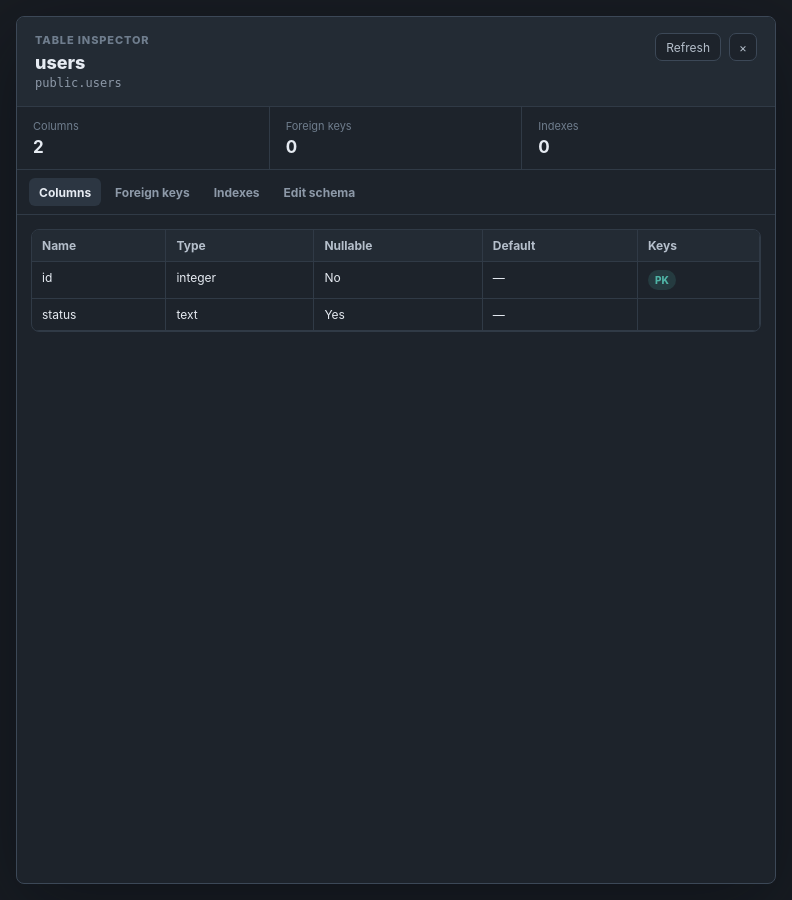
Test: TableInspectorDrawer › previews default value and delete column schema edits
Click the button "Edit schema" at (319, 192), box [274,178,365,206]
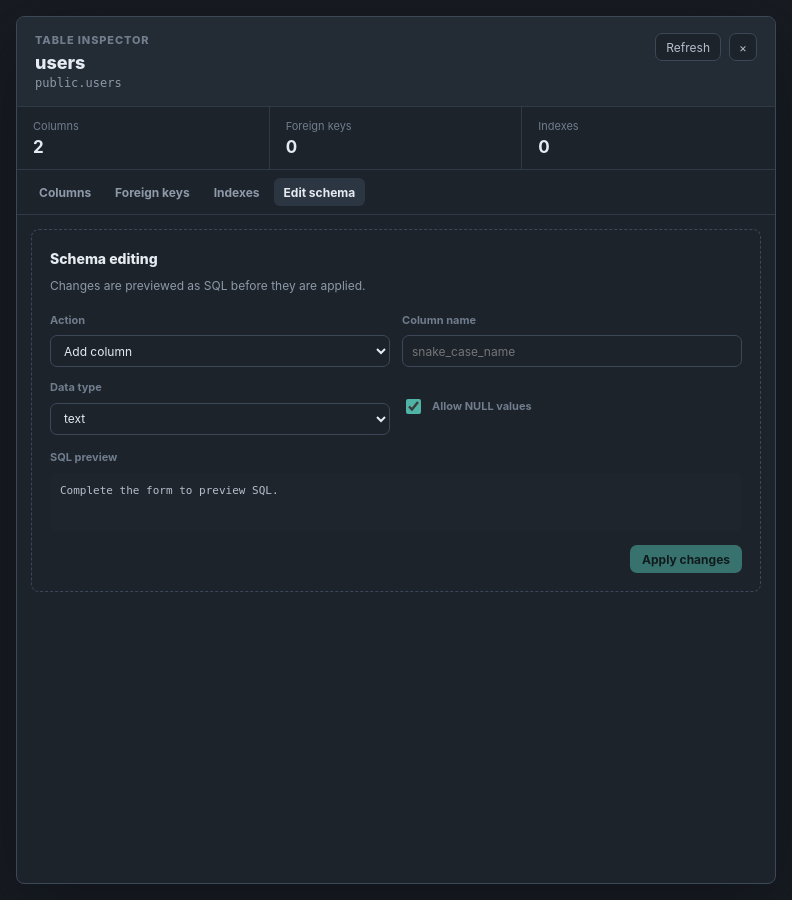
Select "Set / drop default" in the dropdown labelled "Action" at (220, 351), box [50,335,390,367]
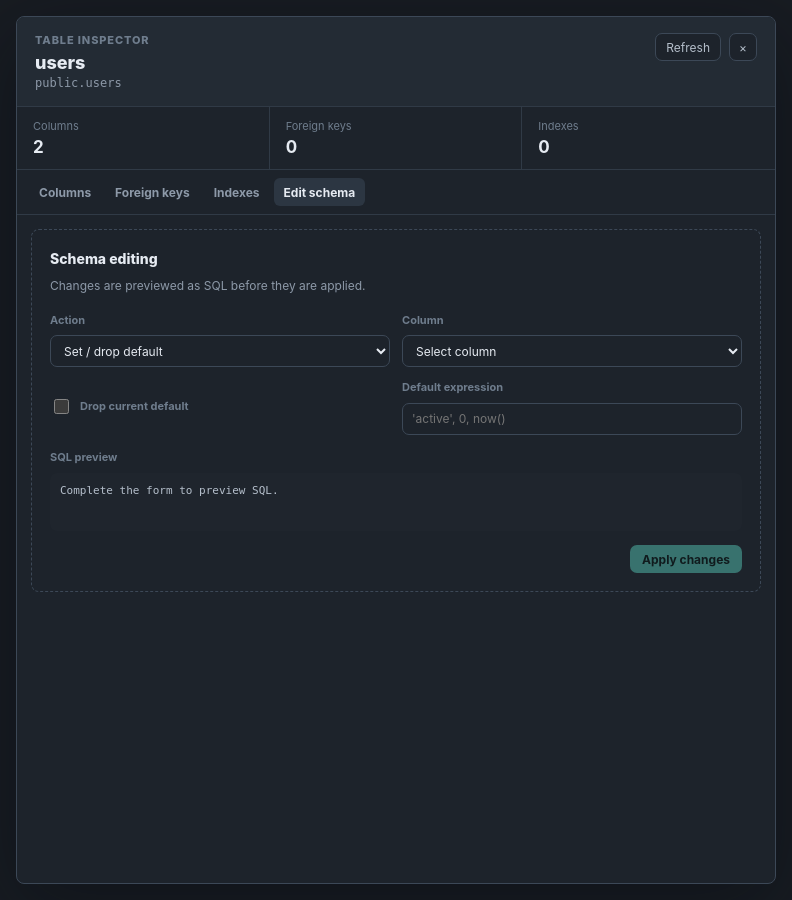
Select "status" in the dropdown labelled "Column" at (572, 351), box [402,335,742,367]
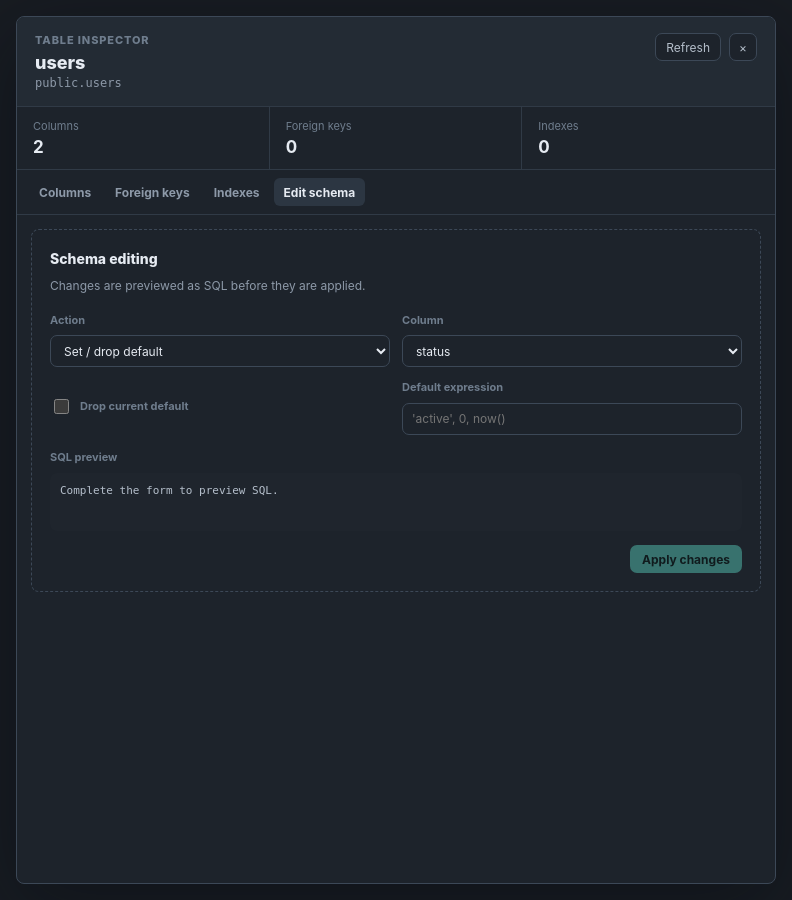
Type "'active'" into the field labelled "Default expression" at (572, 419), box [402,403,742,435]
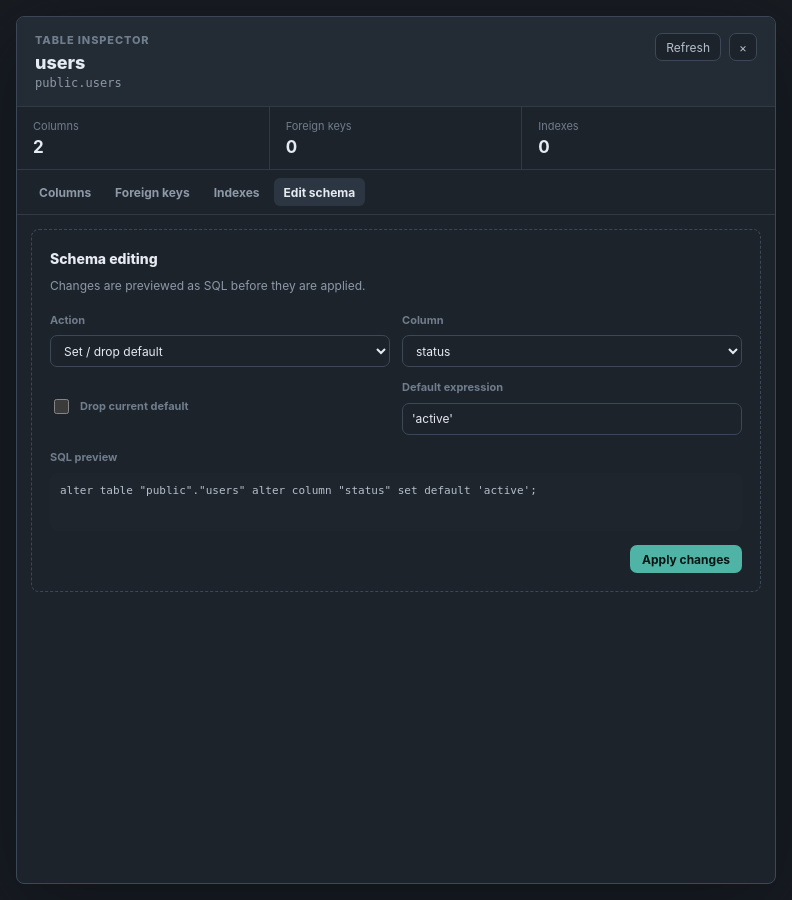
Now the text "alter table \"public\".\"users\" alter column \"status\" set default 'active';" is shown, box [50,473,742,531]
Select "Delete column" in the dropdown labelled "Action" at (220, 351), box [50,335,390,367]
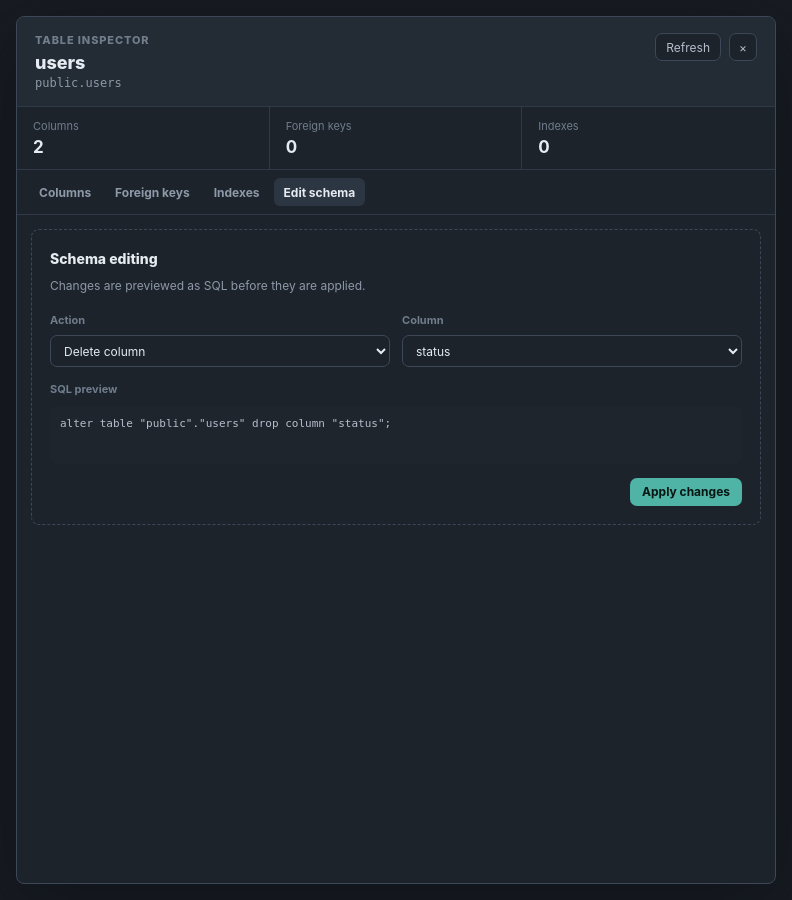
Now the text "alter table \"public\".\"users\" drop column \"status\";" is shown, box [50,406,742,464]
